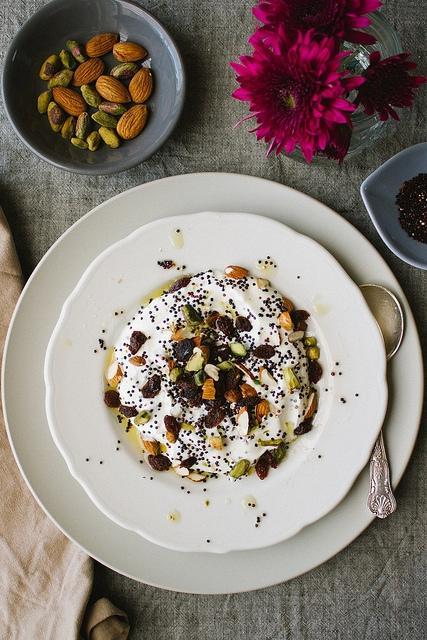almond: (116, 105, 148, 140), (52, 86, 88, 116), (96, 75, 132, 104), (128, 66, 153, 104), (72, 57, 104, 86), (112, 42, 148, 63), (86, 34, 117, 58), (140, 432, 160, 456), (233, 362, 256, 382), (107, 362, 124, 386), (236, 406, 249, 436), (223, 266, 250, 280), (304, 392, 318, 418), (170, 327, 196, 341), (260, 366, 278, 386), (193, 346, 211, 364), (239, 382, 258, 398), (202, 378, 216, 399), (256, 398, 268, 422), (204, 364, 220, 381), (224, 388, 243, 402), (280, 312, 292, 332), (209, 436, 223, 452), (185, 472, 206, 482), (288, 331, 304, 343), (128, 356, 147, 366), (282, 297, 294, 312), (172, 466, 189, 476), (256, 278, 270, 290), (168, 361, 181, 372), (296, 321, 308, 332), (166, 432, 176, 444), (192, 336, 201, 346)
